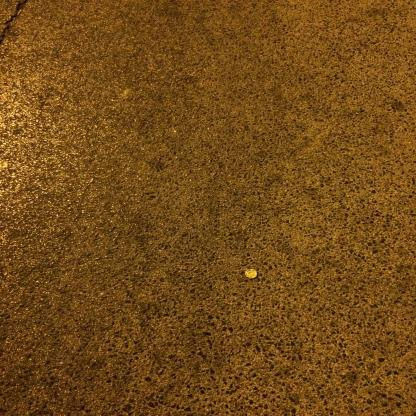trash: (244, 267, 260, 281)
